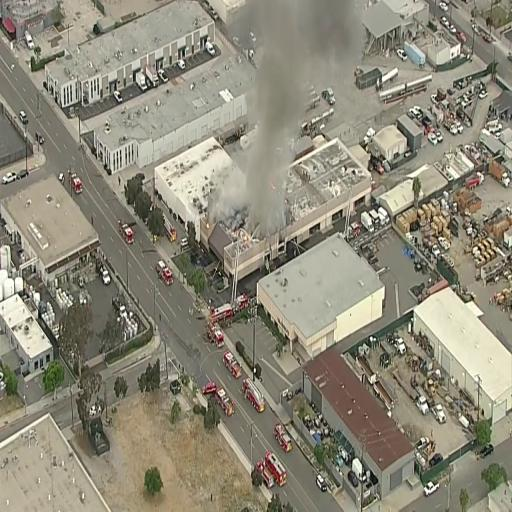fire: (255, 9, 307, 200)
